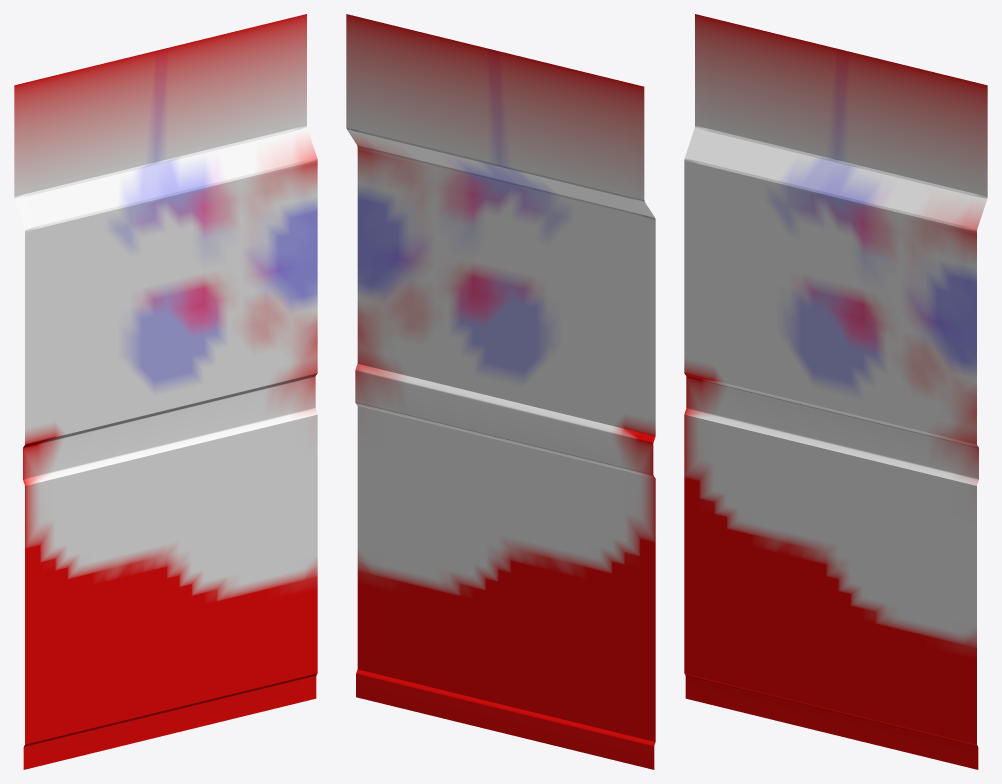
3 renders of one model, left to right at view 1: azimuth 30°, elevation 25°; view 2: azimuth 150°, elevation 25°; view 3: azimuth 330°, elevation 25°, orthographic.
Parts seen in each view (by area): view 1: SM_Platform_Wall_Large_03_LOD0; view 2: SM_Platform_Wall_Large_03_LOD0; view 3: SM_Platform_Wall_Large_03_LOD0.
Boxes of the visible parts, bbox=[...] form: SM_Platform_Wall_Large_03_LOD0: bbox=[14, 14, 317, 769]; SM_Platform_Wall_Large_03_LOD0: bbox=[346, 14, 655, 769]; SM_Platform_Wall_Large_03_LOD0: bbox=[684, 14, 987, 769].
Size of the model in its own units: 500 by 32.32 by 1106.
